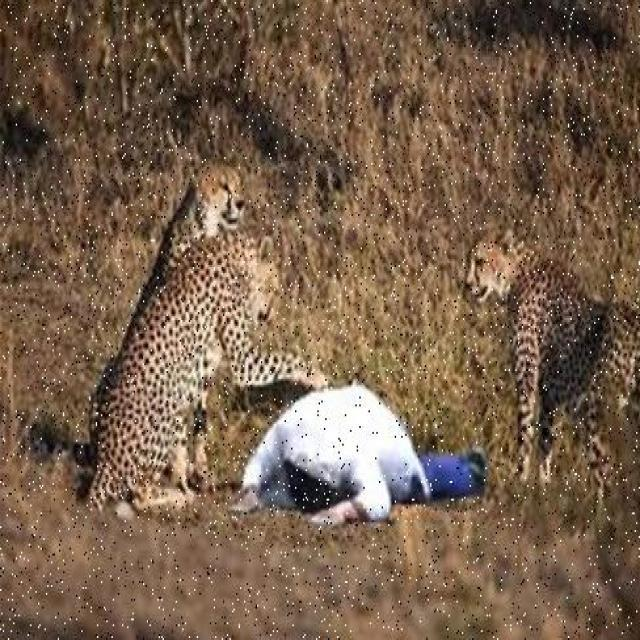fall: (230, 391, 486, 518)
